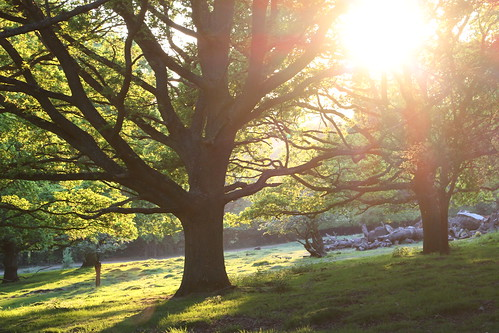grass: (1, 234, 477, 333)
tree: (1, 1, 302, 288), (295, 16, 499, 259)
